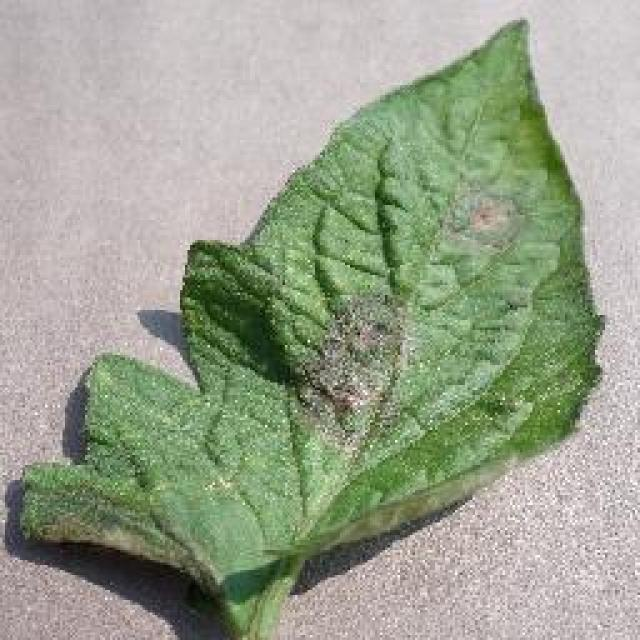Tomato late blight leaf: (21, 11, 606, 598)
